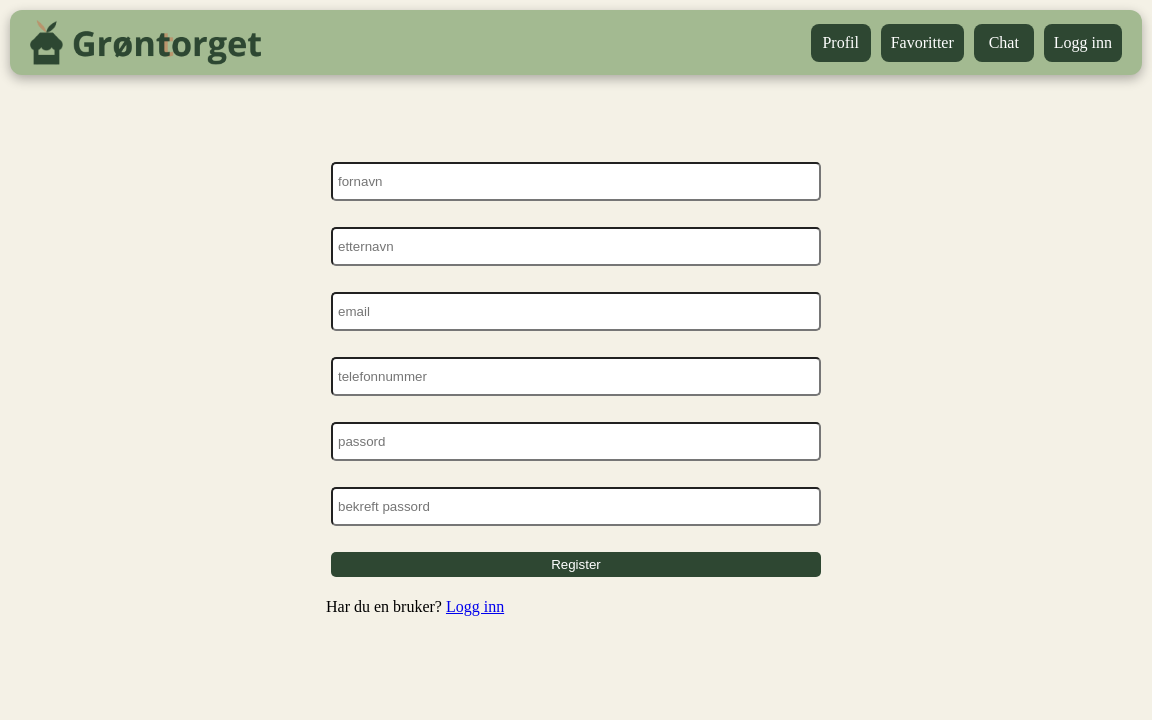
RegisterComponent › should display error for mismatched passwords
The image size is (1152, 720).
Type "password123" into the password field with placeholder "passord" at (576, 442), box [331, 422, 821, 461]
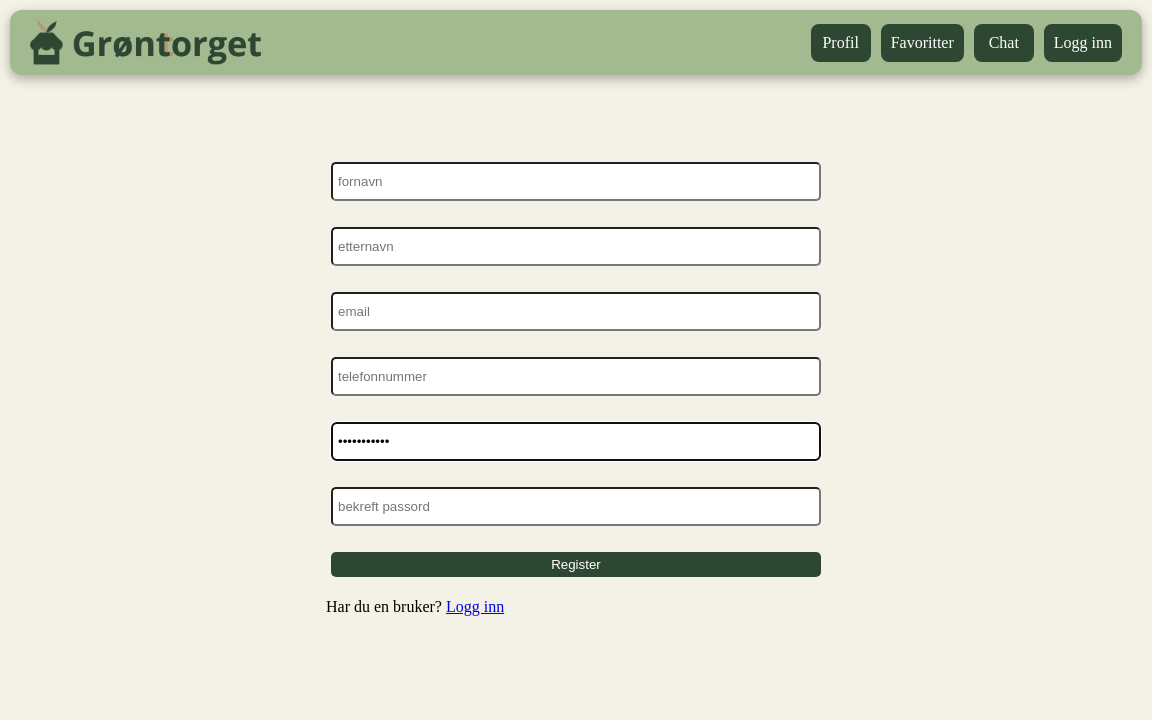
Type "differentPassword" into the password field with placeholder "bekreft passord" at (576, 507), box [331, 487, 821, 526]
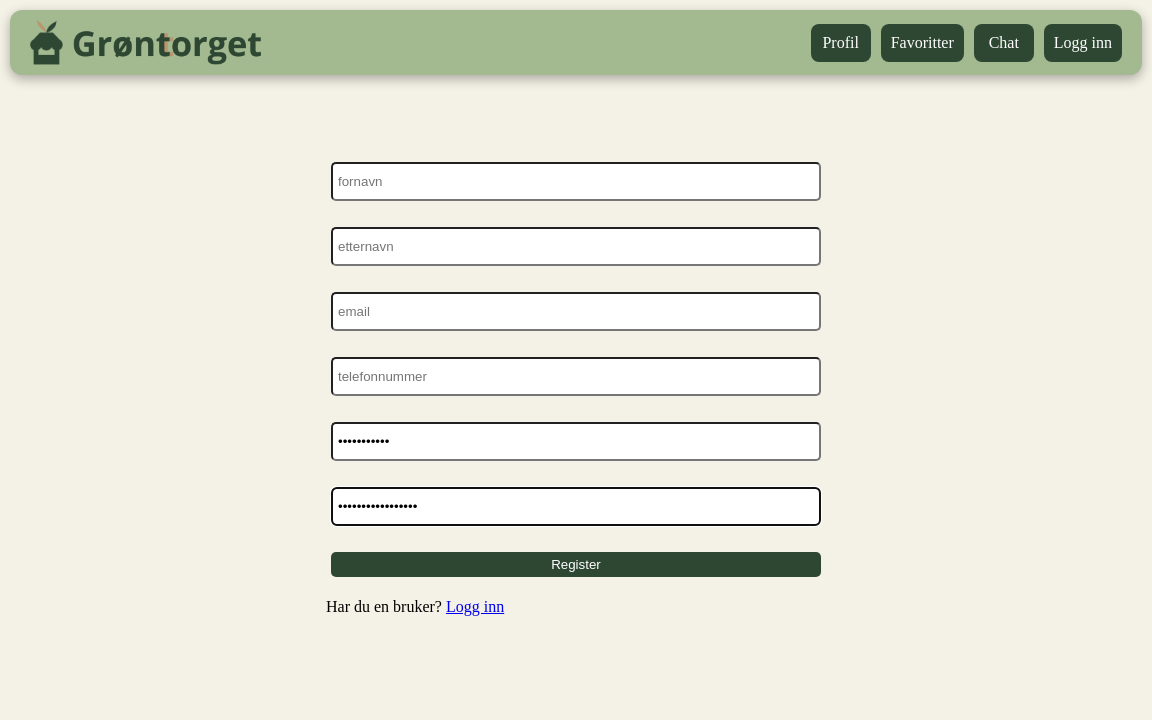
Click the submit button at (576, 565), box [331, 552, 821, 577]
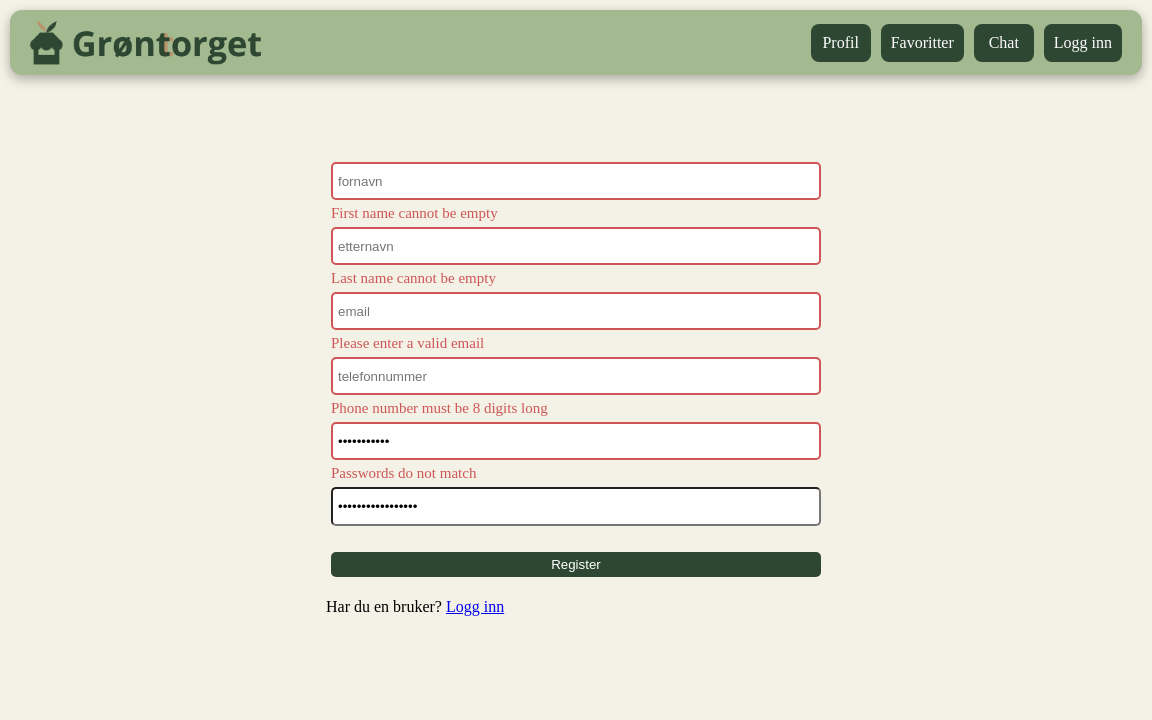
Now the text with class "error-message" reads "Passwords do not match", box [331, 465, 476, 481]
